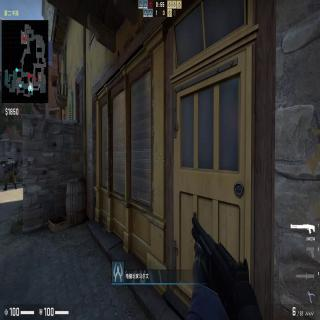T-Body: (0, 157, 18, 190)
T-Head: (7, 158, 13, 164)
